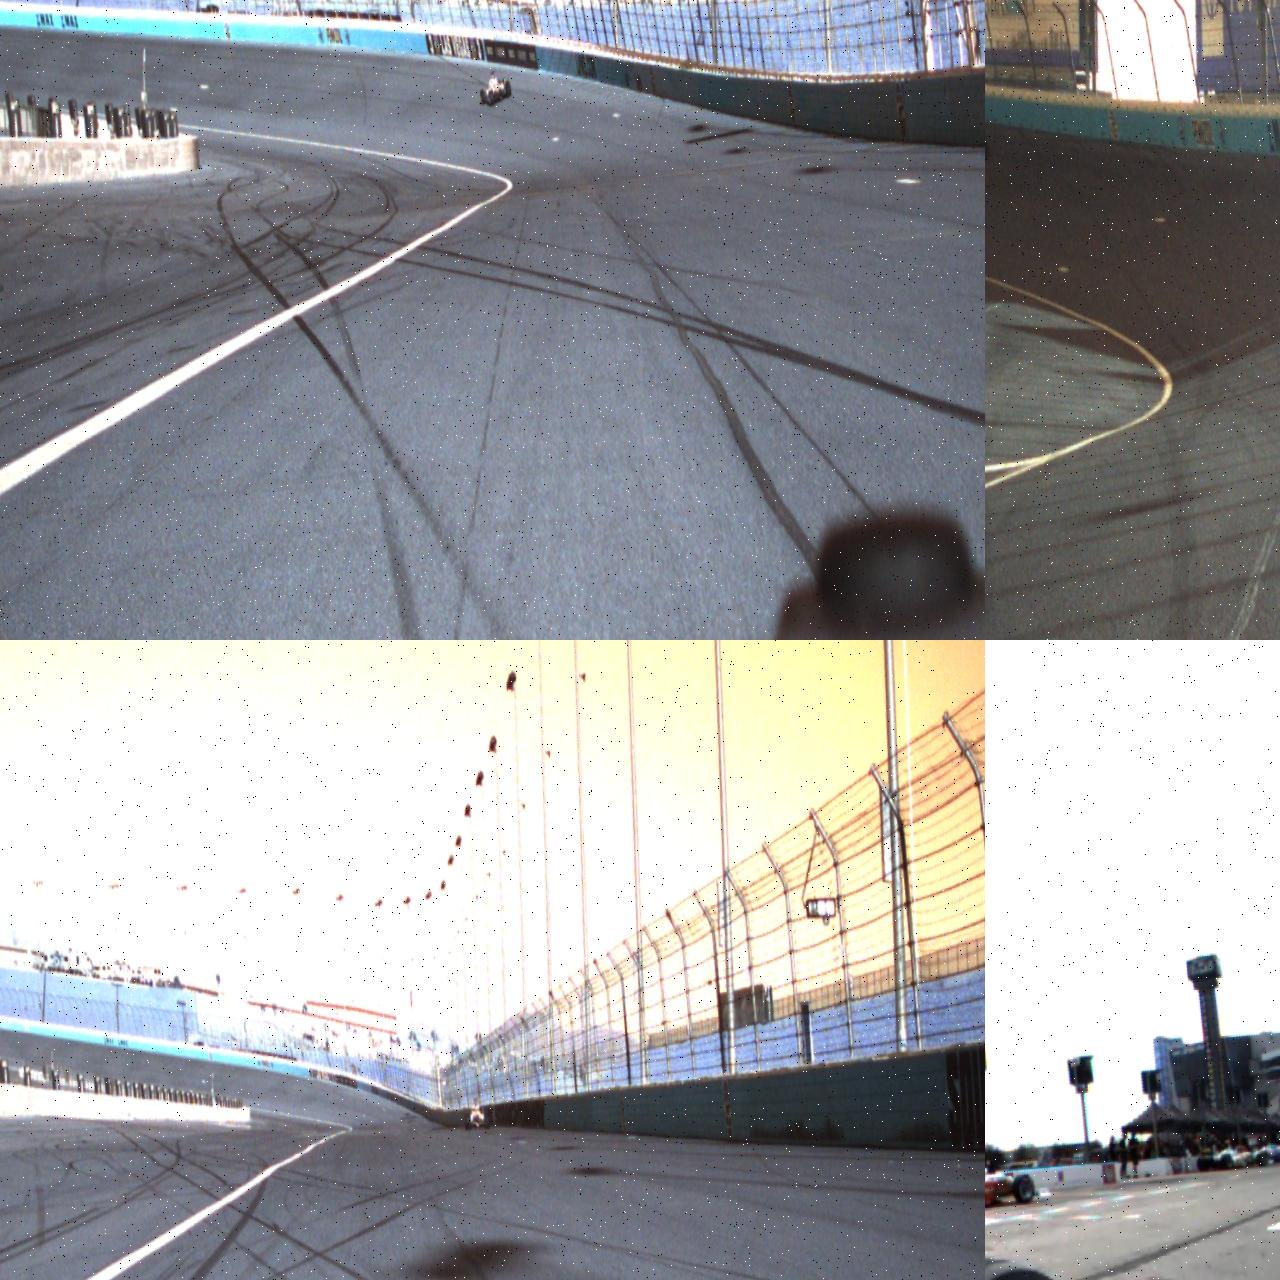AV: (985, 1142, 1036, 1219), (478, 70, 512, 106), (463, 1097, 490, 1131)
Wheel: (1012, 1174, 1036, 1204), (464, 1113, 472, 1130), (505, 81, 512, 97), (488, 90, 495, 106), (479, 89, 486, 104), (484, 1113, 490, 1129), (985, 137, 988, 156)
